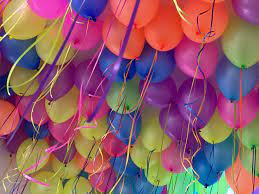Balloon: (176, 79, 216, 129), (181, 1, 228, 43), (217, 58, 259, 103), (175, 38, 217, 80), (103, 19, 145, 60), (224, 19, 259, 67), (36, 26, 78, 64), (2, 1, 45, 38), (63, 14, 105, 49), (109, 1, 158, 28), (136, 47, 173, 81), (145, 16, 180, 50), (107, 110, 142, 144), (17, 138, 50, 174), (1, 38, 39, 68), (40, 64, 72, 98), (160, 106, 192, 139), (228, 160, 259, 194), (141, 79, 177, 108), (203, 141, 238, 170), (108, 80, 140, 111), (142, 116, 170, 151), (73, 60, 102, 93), (145, 152, 173, 185), (27, 1, 68, 21), (30, 170, 64, 194), (11, 69, 40, 97), (1, 99, 20, 137), (70, 1, 105, 20), (63, 175, 92, 194)
